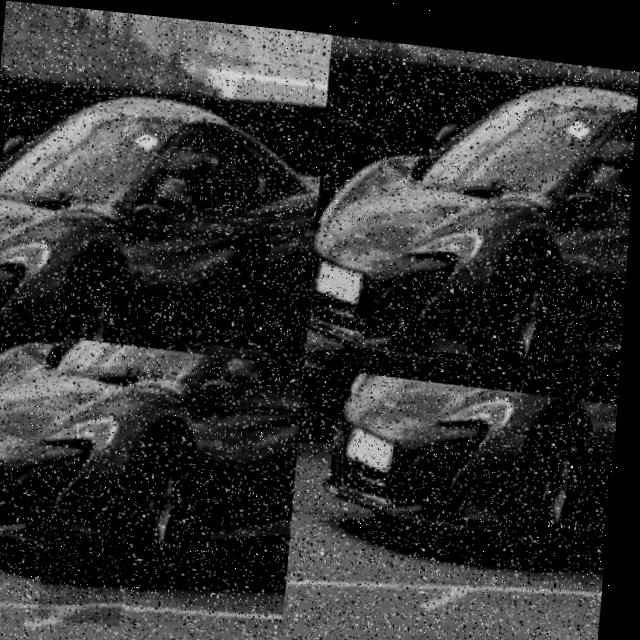LicensePlate: (47, 526, 134, 623), (351, 417, 400, 461)
